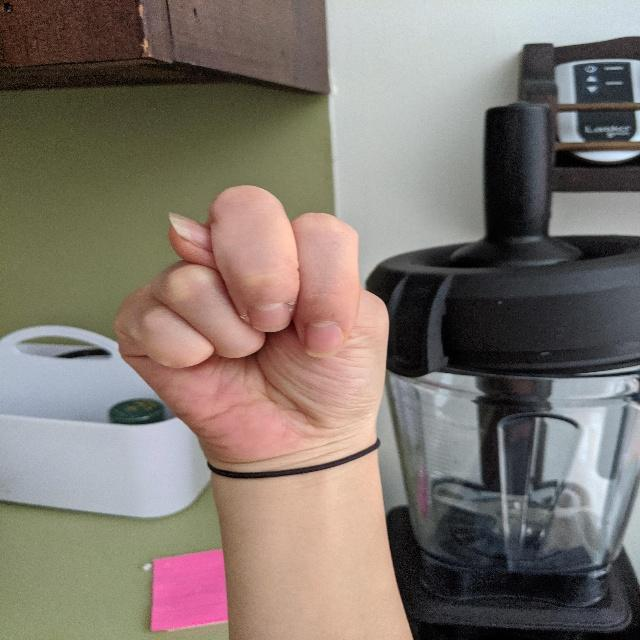N: (107, 180, 398, 459)
